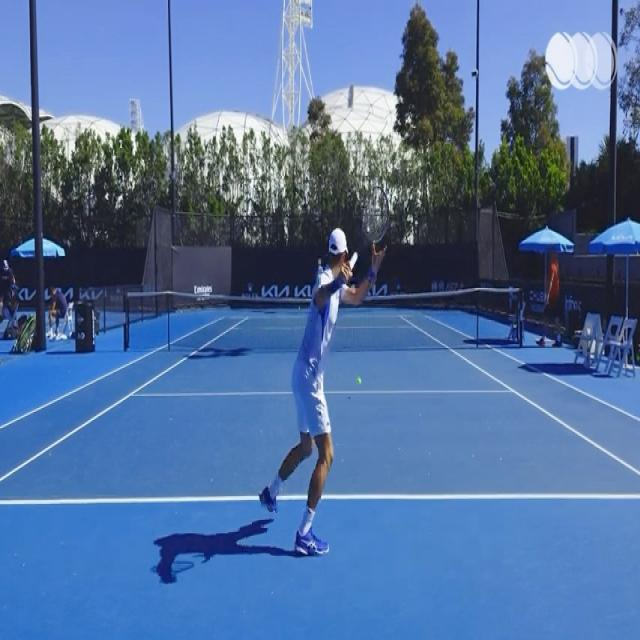forehand-ready: (259, 186, 392, 552)
